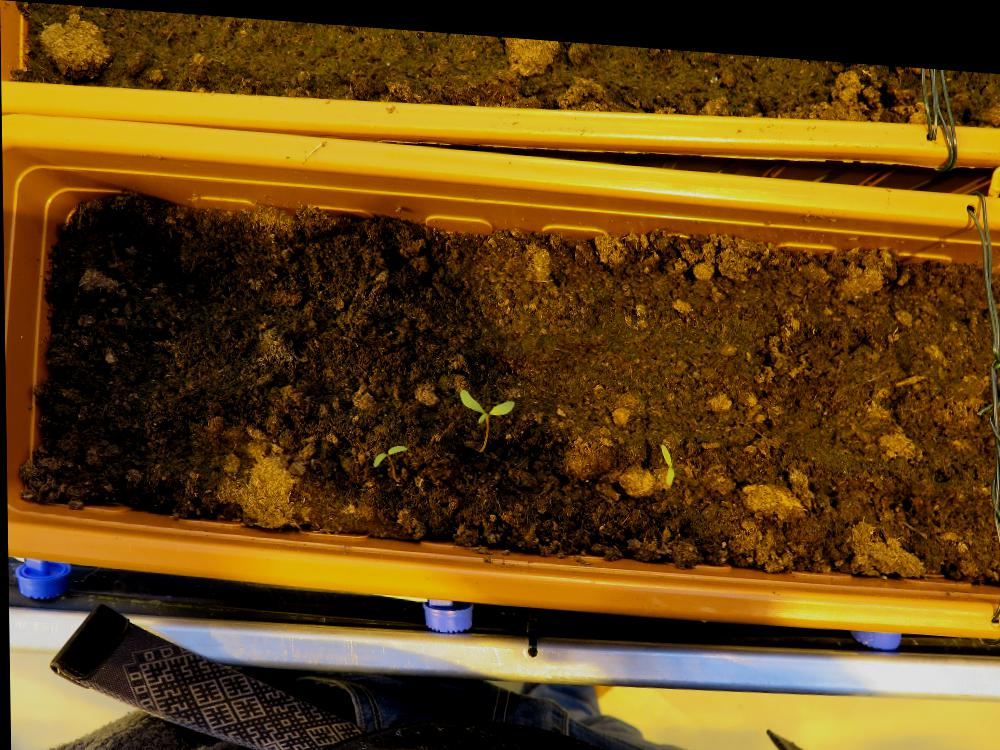weed: (456, 378, 514, 418), (369, 434, 406, 464), (657, 430, 672, 477)
